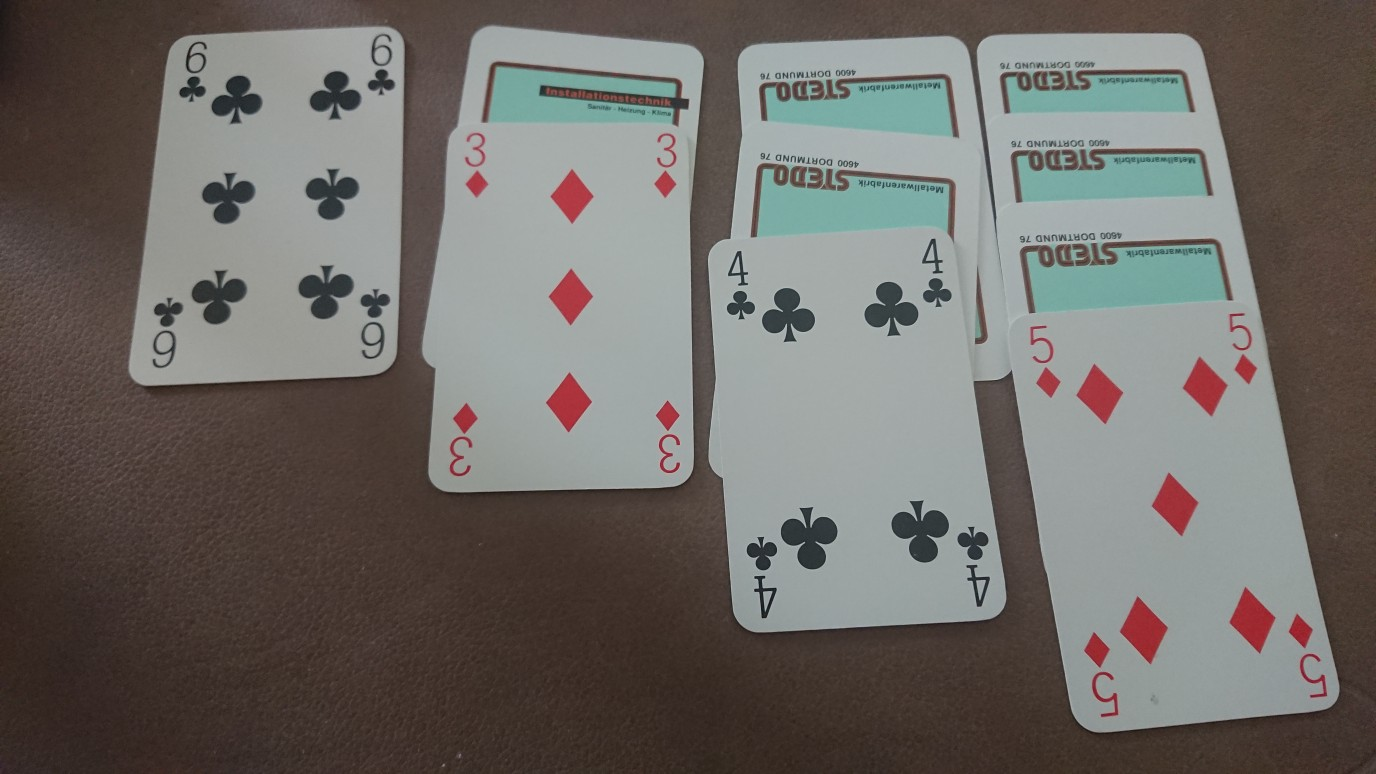3D: (649, 127, 684, 201), (461, 129, 494, 202)
4C: (917, 233, 958, 311), (724, 247, 758, 326)
5D: (1222, 308, 1264, 388), (1025, 318, 1065, 401)
6C: (177, 37, 212, 106), (365, 30, 399, 101)
BACK: (730, 121, 981, 236), (996, 198, 1261, 306), (735, 34, 980, 137), (459, 24, 705, 125), (985, 114, 1235, 198), (976, 32, 1220, 114)
